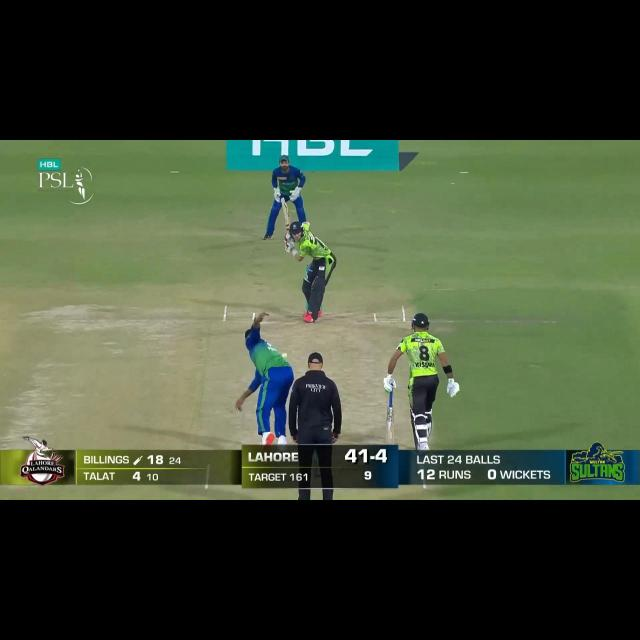bat: (279, 197, 291, 231), (384, 407, 395, 444)
toe: (280, 196, 286, 206)
